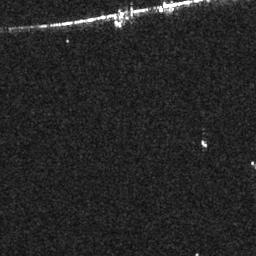ship: (201, 140, 209, 147)
